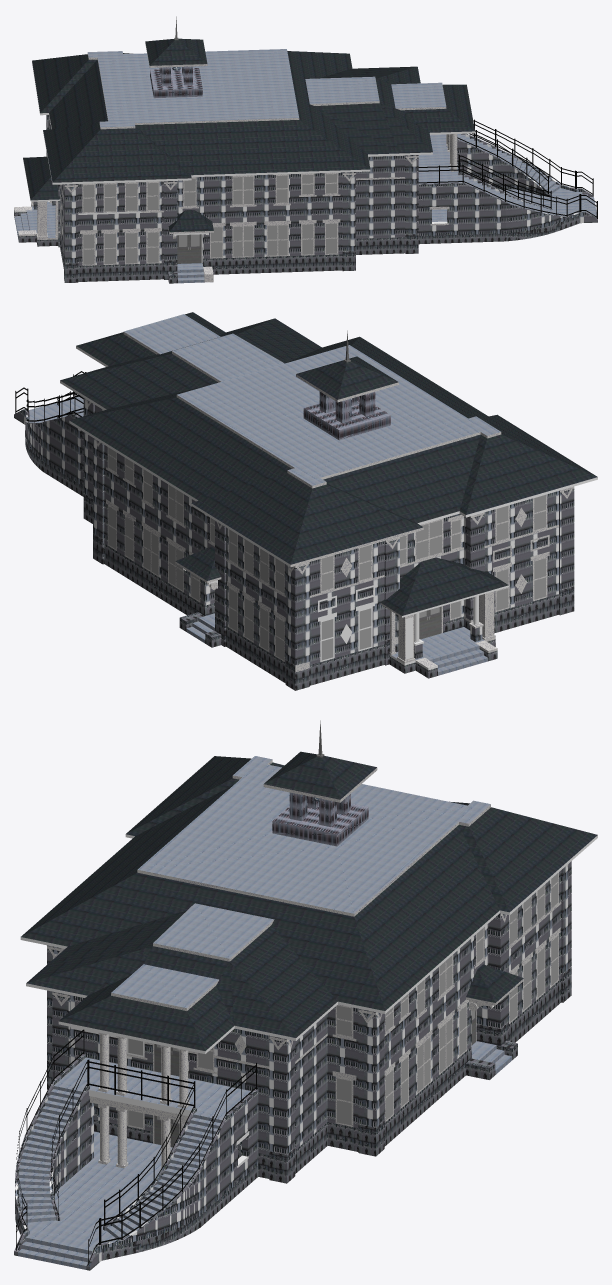
3 renders of one model, top to bottom at view 1: azimuth 30°, elevation 25°; view 2: azimuth 150°, elevation 25°; view 3: azimuth 270°, elevation 25°, orthographic. The views are drawn at different scales.
Visible parts, largest first — view 1: Old_Glennville_School (×23); view 2: Old_Glennville_School (×27); view 3: Old_Glennville_School (×19).
Part boxes in pixels (<box>): Old_Glennville_School (×23): <box>14,38,597,283</box>; Old_Glennville_School (×27): <box>14,312,597,690</box>; Old_Glennville_School (×19): <box>14,751,597,1270</box>.
Size of the model in its own units: 1550 by 1068 by 622.
